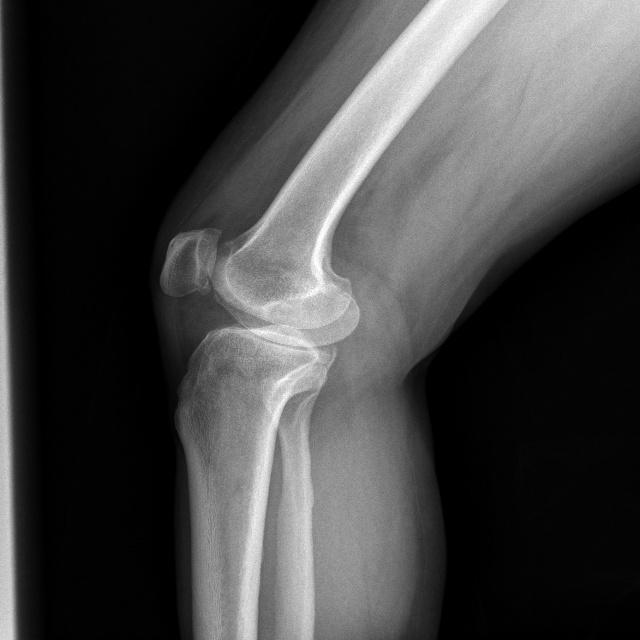Knee: (156, 224, 359, 407)
